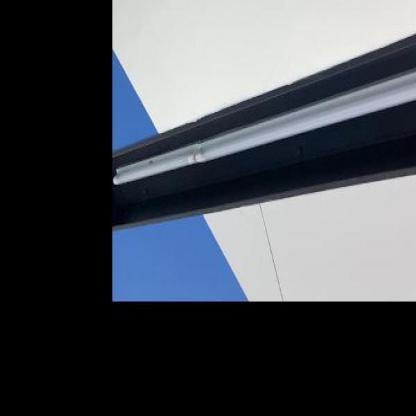light_off: (112, 0, 415, 228)
